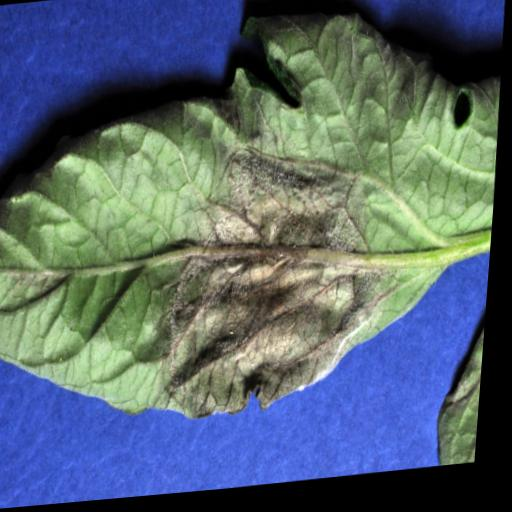Late Blight: (0, 0, 511, 433)
